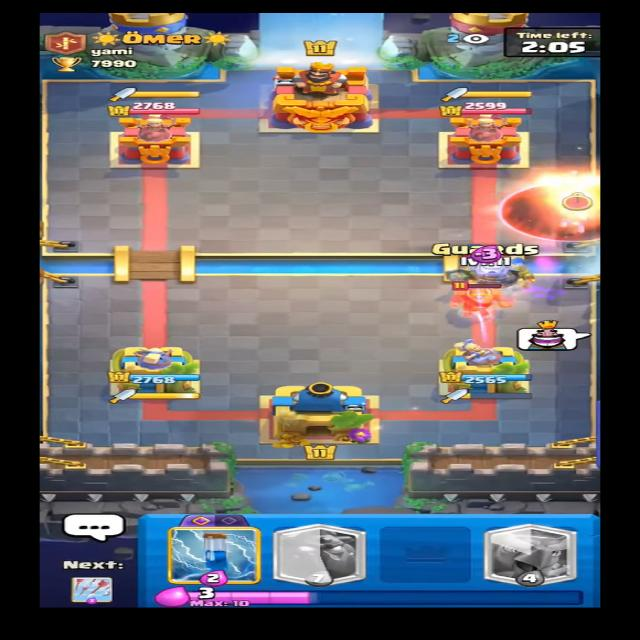knight: (444, 276, 519, 318)
